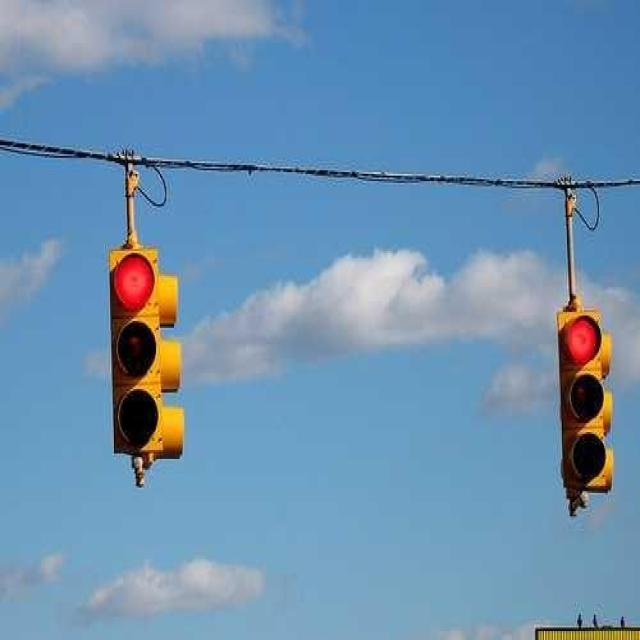Traffic Light -Red-: (102, 245, 192, 489), (553, 305, 613, 504)
